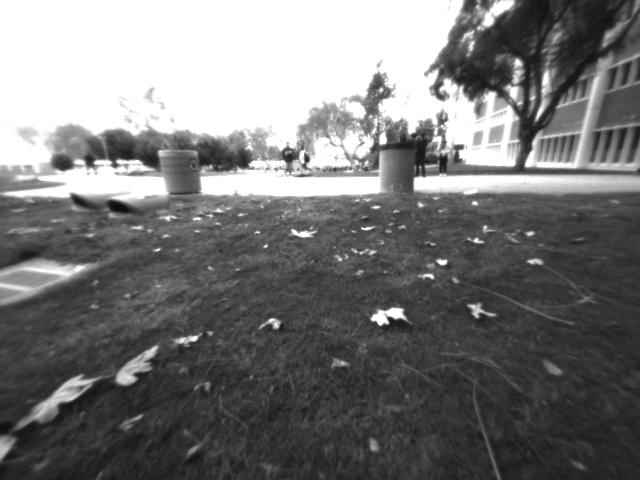trashcan: (154, 143, 209, 199), (376, 138, 422, 197)
